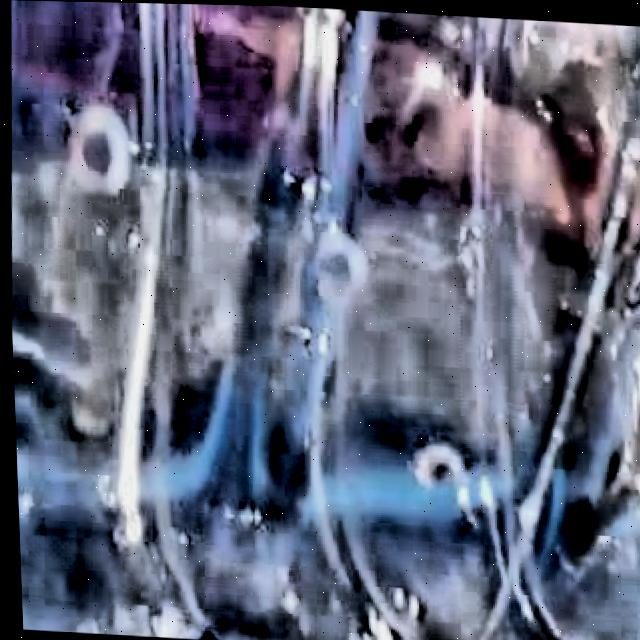plastic: (9, 0, 640, 640)
